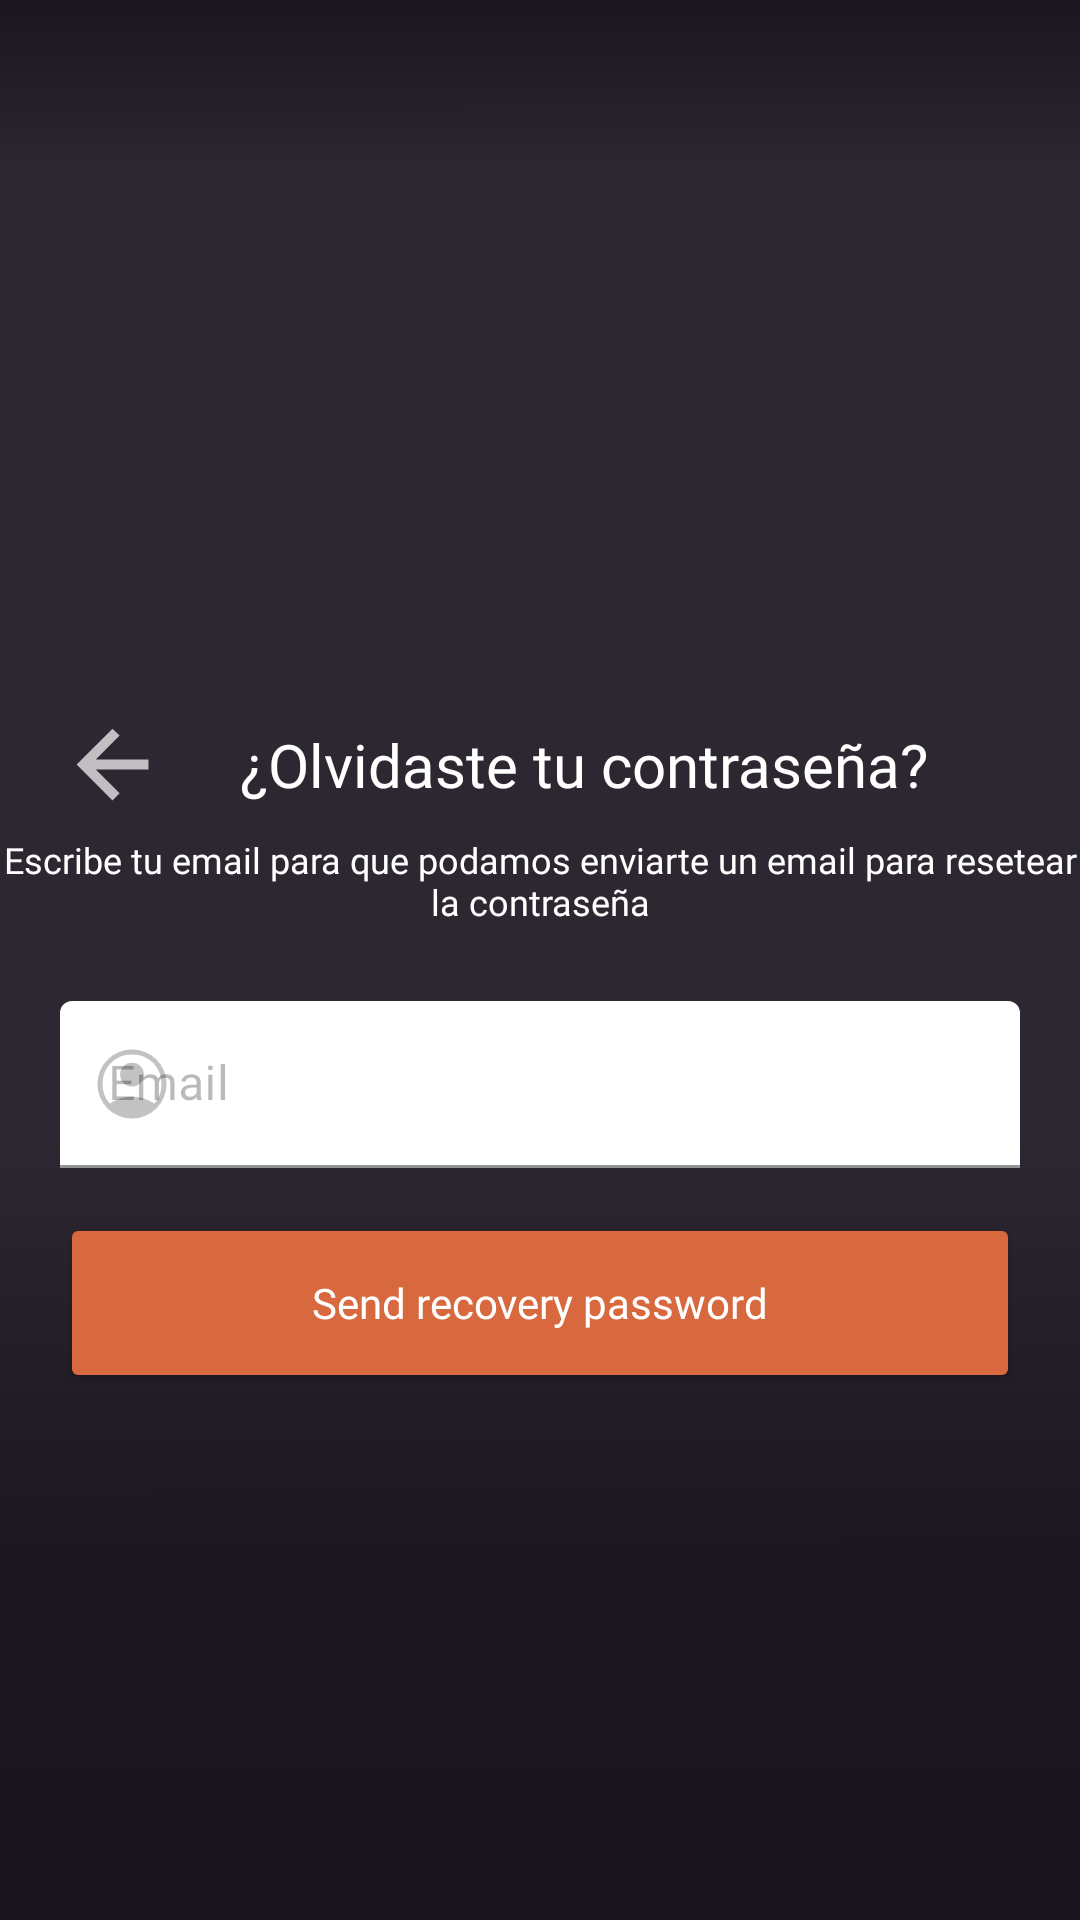

Screen size 1080×1920. Icon name, then its center in pixels as point (x, y):
arrow back: point (113, 765)
